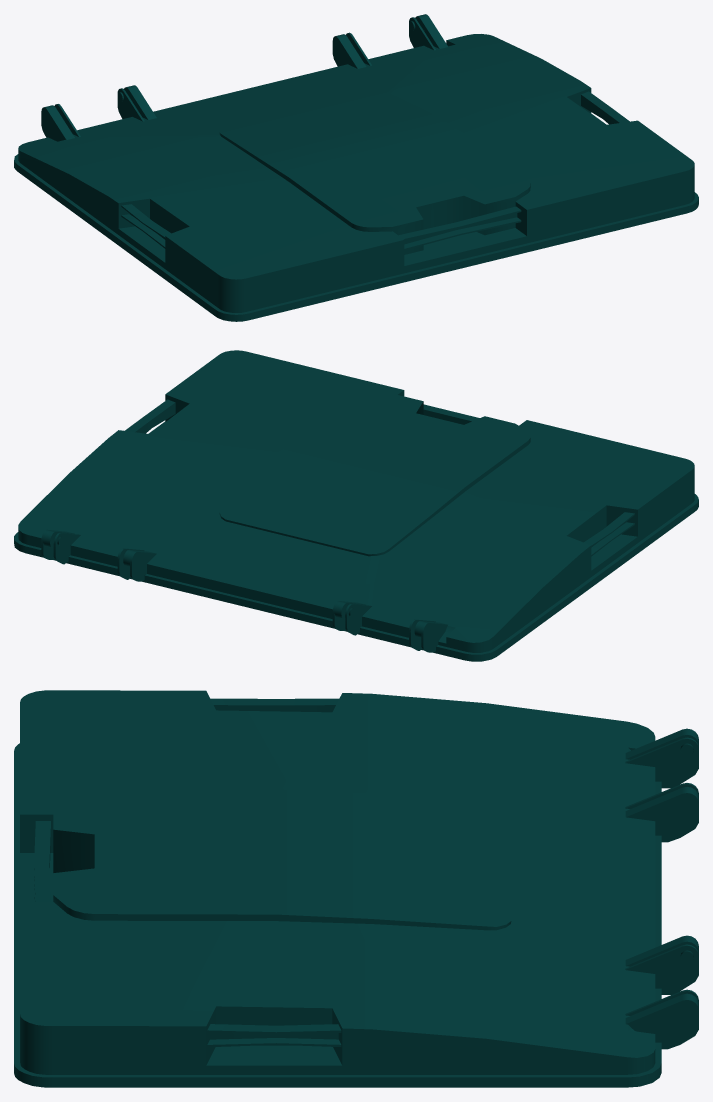
File: SM_TrashCanCap.fbx
3 views of the same model, one above another, from view 1: azimuth 30°, elevation 25°; view 2: azimuth 150°, elevation 25°; view 3: azimuth 270°, elevation 25° (orthographic). The views are drawn at different scales.
Parts seen in each view (by area): view 1: TrashCanCap; view 2: TrashCanCap; view 3: TrashCanCap.
Part boxes in pixels (bbox=[...]): TrashCanCap: bbox=[14, 14, 698, 321]; TrashCanCap: bbox=[14, 350, 698, 661]; TrashCanCap: bbox=[14, 690, 698, 1087].
Size of the model in its own units: 121 by 10.93 by 103.
